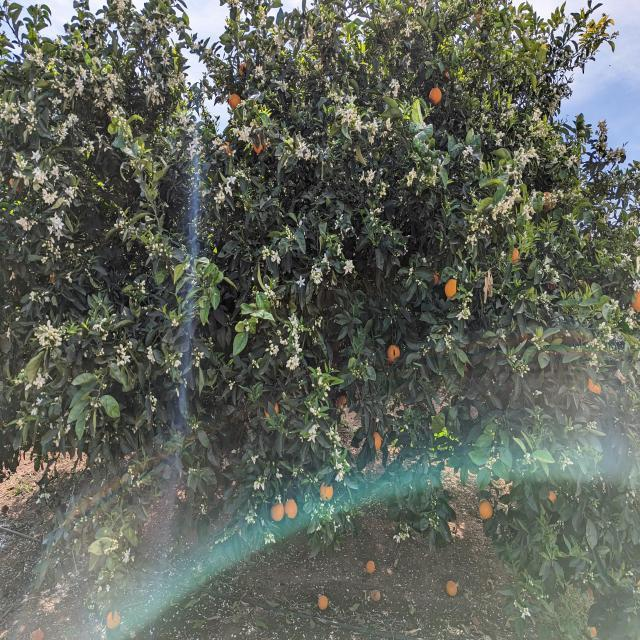Bunga: (171, 72, 183, 88), (44, 192, 56, 202), (234, 170, 246, 178), (147, 346, 153, 361), (32, 178, 40, 189), (269, 346, 277, 356), (218, 192, 226, 202), (367, 172, 375, 182), (24, 220, 34, 228), (268, 344, 276, 354), (116, 1, 124, 11), (172, 318, 180, 327), (346, 261, 354, 270), (407, 173, 415, 182), (170, 358, 179, 366), (382, 186, 389, 196), (254, 481, 262, 489), (351, 368, 359, 376)
Jeruk Sudah Matang: (542, 191, 556, 210), (445, 279, 459, 297), (106, 612, 120, 630), (430, 86, 445, 102), (386, 346, 401, 362), (586, 625, 604, 638), (270, 504, 286, 518), (318, 595, 331, 610), (285, 500, 298, 515), (631, 289, 640, 308), (373, 432, 383, 449), (480, 502, 492, 516), (446, 582, 458, 596), (322, 484, 334, 498), (254, 142, 268, 154), (589, 382, 602, 394), (252, 144, 264, 156), (540, 42, 552, 54), (510, 248, 520, 262), (257, 6, 267, 20), (230, 94, 242, 105), (368, 562, 378, 574), (339, 395, 349, 407), (370, 592, 382, 602), (316, 60, 326, 72), (31, 630, 44, 639), (221, 145, 232, 155), (262, 408, 271, 419), (432, 270, 440, 282), (287, 360, 296, 370), (240, 63, 248, 74), (272, 402, 280, 413), (550, 490, 558, 500), (48, 274, 56, 282)
